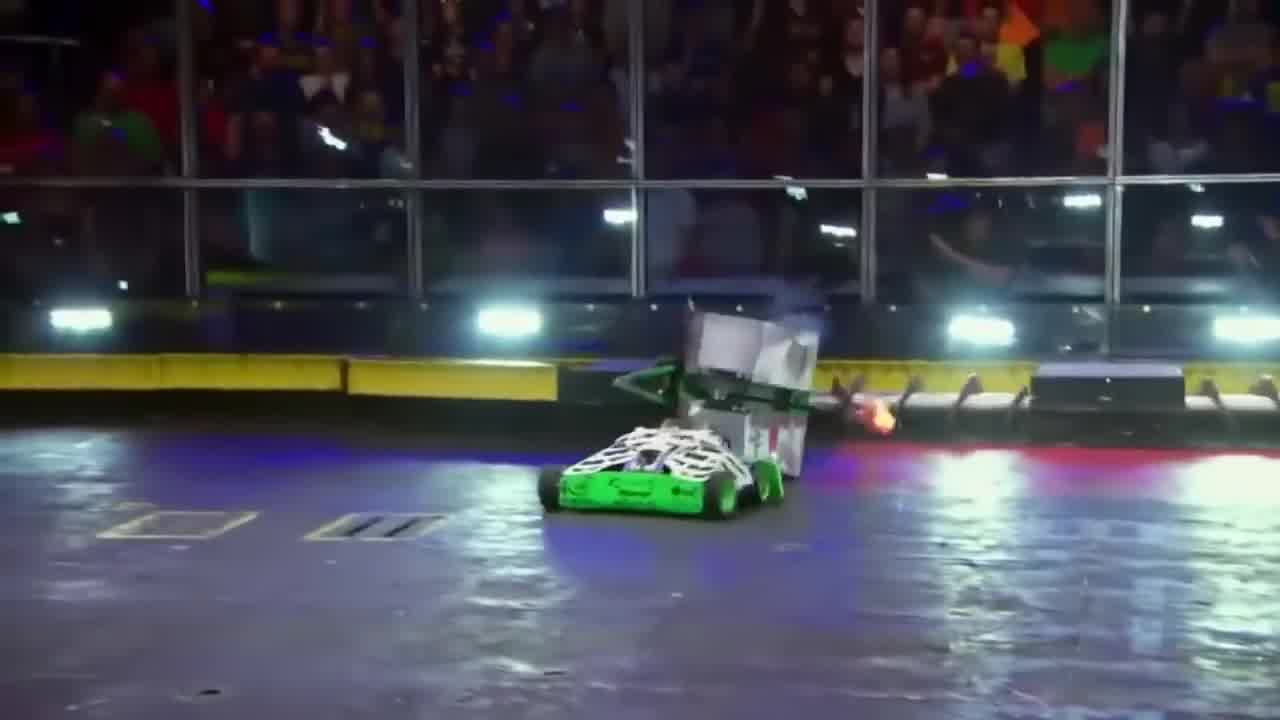combatbot: (539, 410, 808, 520), (616, 308, 817, 422)
